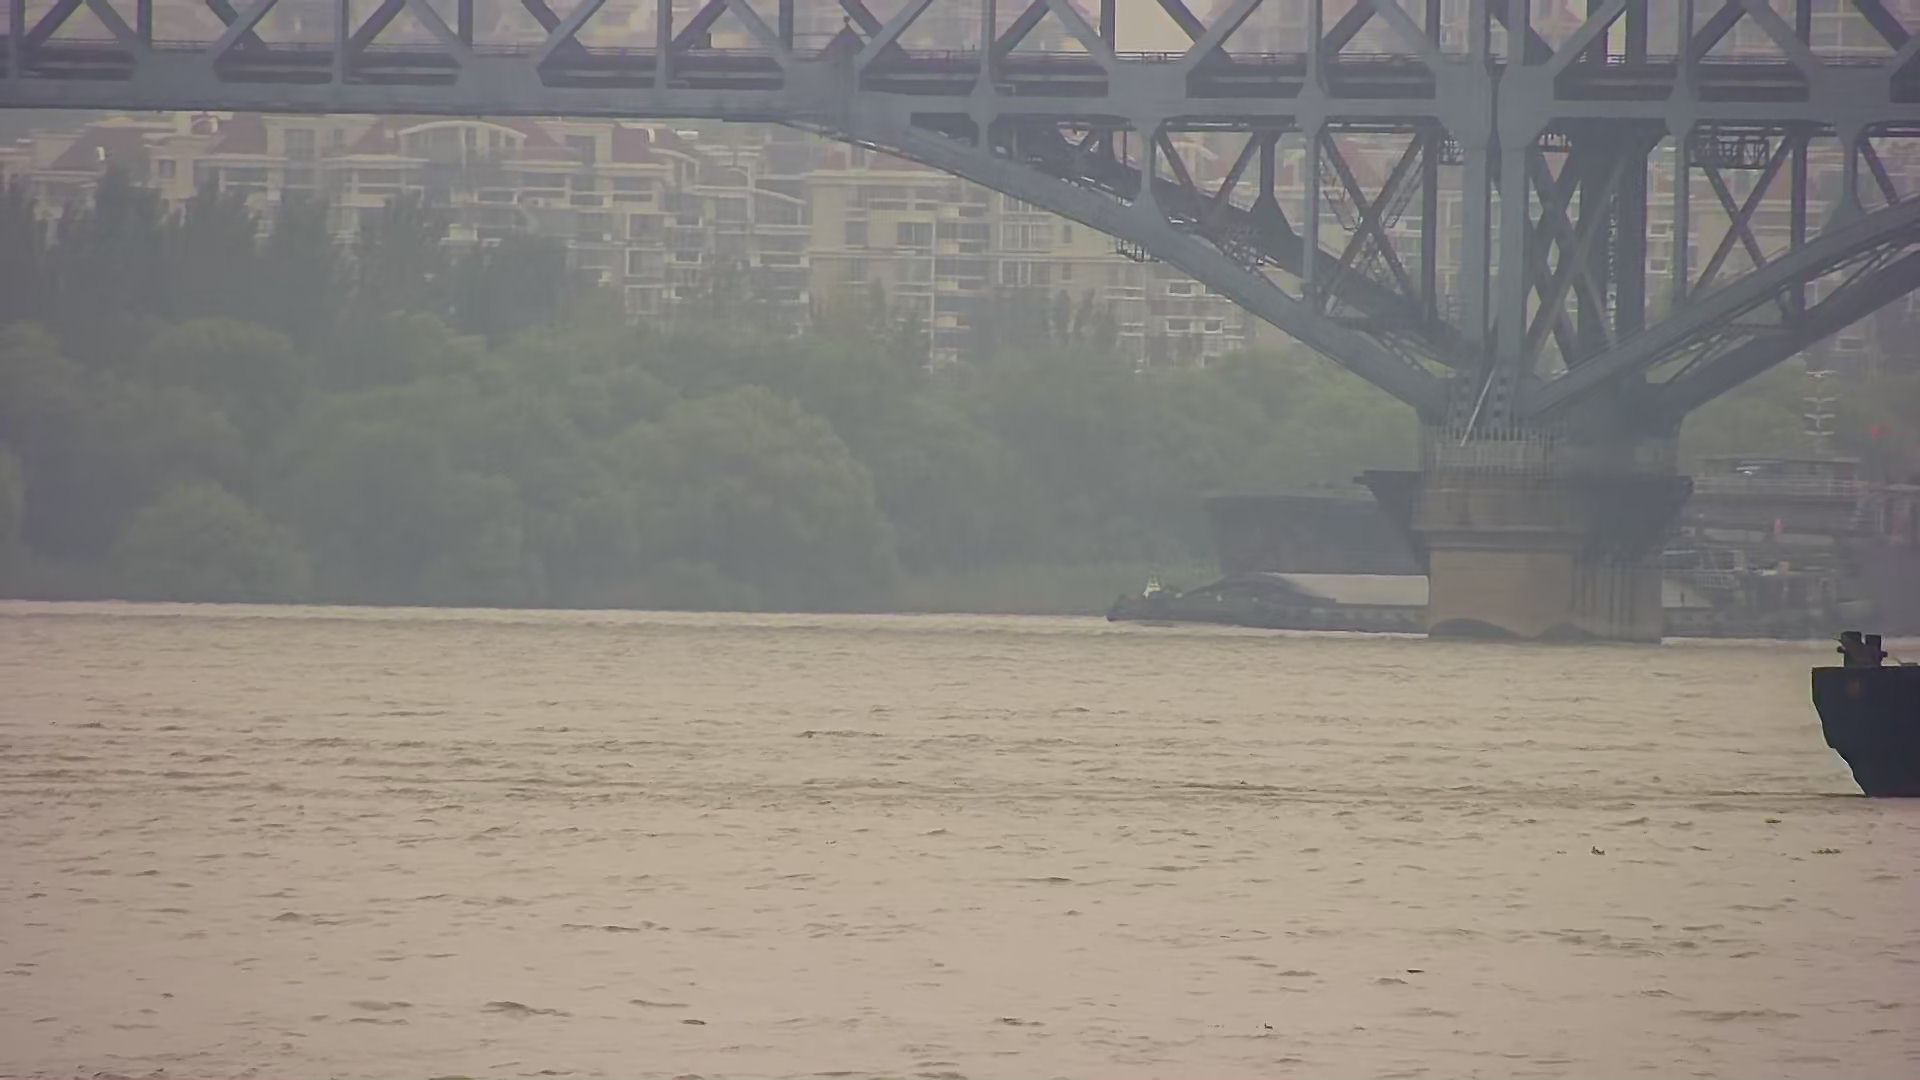bridge: (1, 1, 1919, 659)
ship: (1203, 401, 1920, 634), (1101, 556, 1840, 657)
